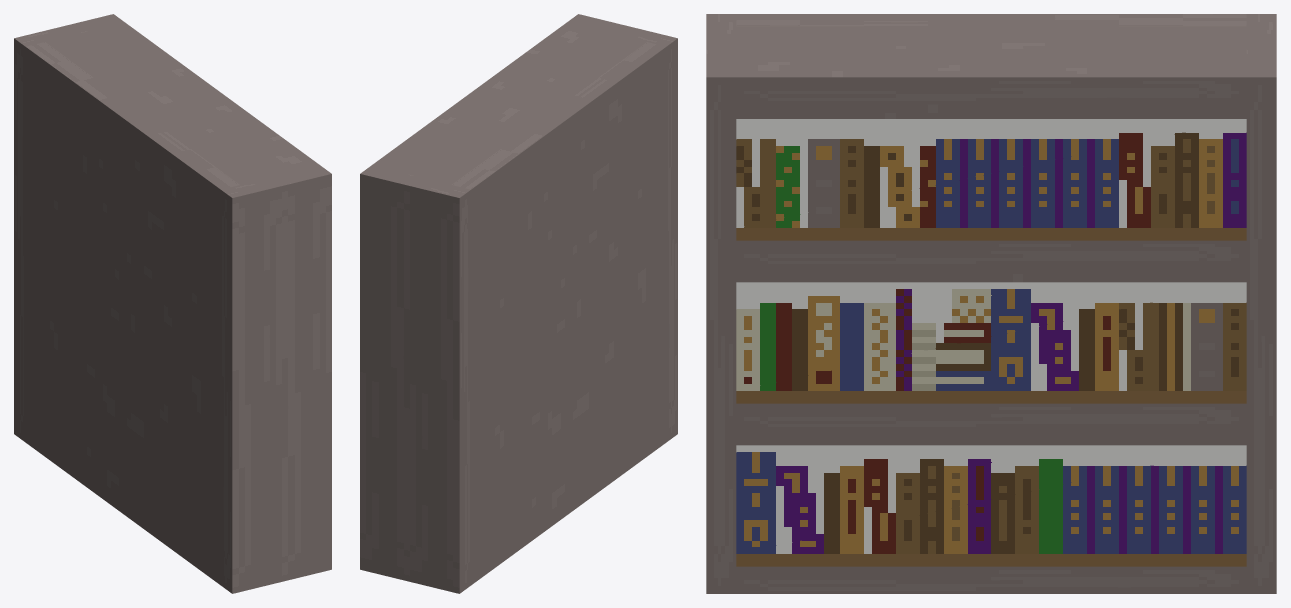
File: bookshelf.glb
The picture shows the model from 3 angles, left to right: view 1: azimuth 30°, elevation 25°; view 2: azimuth 150°, elevation 25°; view 3: azimuth 270°, elevation 25°; orthographic projection. The views are drawn at different scales.
Visible parts, largest first — view 1: Mesh_0; view 2: Mesh_0; view 3: Mesh_0.
Part boxes in pixels (bbox=[...]): Mesh_0: bbox=[14, 14, 331, 593]; Mesh_0: bbox=[360, 14, 677, 593]; Mesh_0: bbox=[706, 14, 1276, 593].
Size of the model in its own units: 1.25 by 4.75 by 4.75.
1 material, 1 textured.
